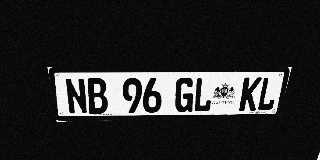6: (143, 78, 162, 113)
9: (122, 78, 142, 113)
B: (86, 78, 108, 114)
G: (174, 78, 195, 112)
K: (239, 77, 262, 111)
L: (256, 77, 280, 111), (193, 78, 214, 112)
N: (64, 78, 89, 114)
